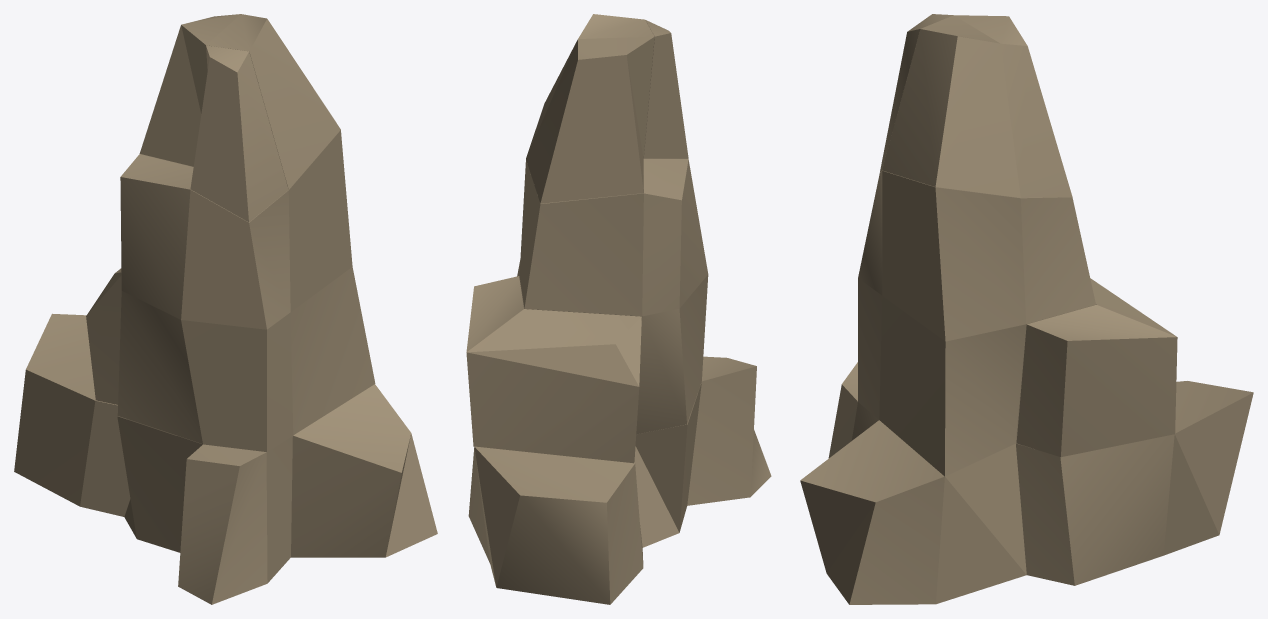
The model's file is rock_tall_lrg_brkn.fbx.
3 renders of one model, left to right at view 1: azimuth 30°, elevation 25°; view 2: azimuth 150°, elevation 25°; view 3: azimuth 270°, elevation 25°, orthographic. The views are drawn at different scales.
Parts seen in each view (by area): view 1: rock_tall_lrg_p_02, rock_tall_lrg_p_01, rock_tall_lrg_p_04, rock_tall_lrg_p_05, rock_tall_lrg_p_03; view 2: rock_tall_lrg_p_01, rock_tall_lrg_p_02, rock_tall_lrg_p_03, rock_tall_lrg_p_04, rock_tall_lrg_p_05; view 3: rock_tall_lrg_p_01, rock_tall_lrg_p_02, rock_tall_lrg_p_04, rock_tall_lrg_p_03, rock_tall_lrg_p_05.
Boxes of the visible parts, x1,y1,x2,y2 form: rock_tall_lrg_p_02: [117, 130, 375, 451]; rock_tall_lrg_p_01: [14, 313, 437, 604]; rock_tall_lrg_p_04: [139, 14, 340, 189]; rock_tall_lrg_p_05: [190, 45, 288, 222]; rock_tall_lrg_p_03: [86, 268, 121, 404]; rock_tall_lrg_p_01: [468, 356, 771, 604]; rock_tall_lrg_p_02: [517, 158, 708, 434]; rock_tall_lrg_p_03: [466, 276, 641, 463]; rock_tall_lrg_p_04: [526, 14, 654, 203]; rock_tall_lrg_p_05: [643, 20, 688, 158]; rock_tall_lrg_p_01: [800, 362, 1253, 604]; rock_tall_lrg_p_02: [858, 170, 1095, 476]; rock_tall_lrg_p_04: [882, 15, 1072, 197]; rock_tall_lrg_p_03: [1016, 278, 1177, 457]; rock_tall_lrg_p_05: [880, 14, 953, 171].
Size of the model in its own units: 67.55 by 130 by 104.
